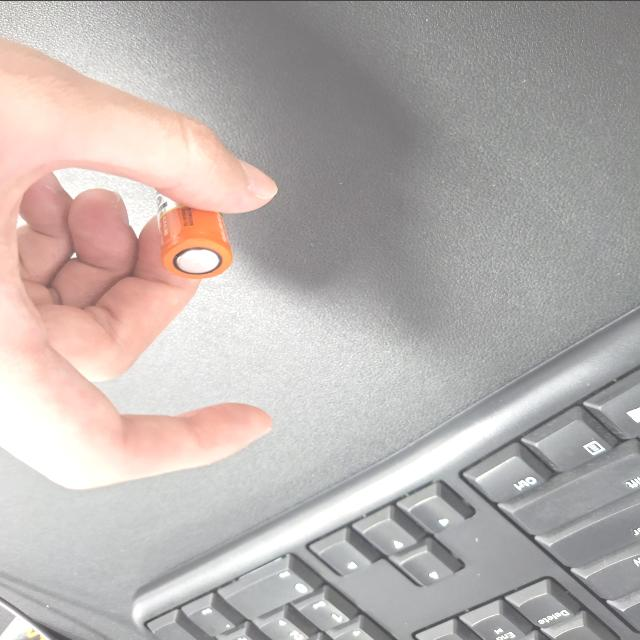AA: (483, 278, 595, 334)
